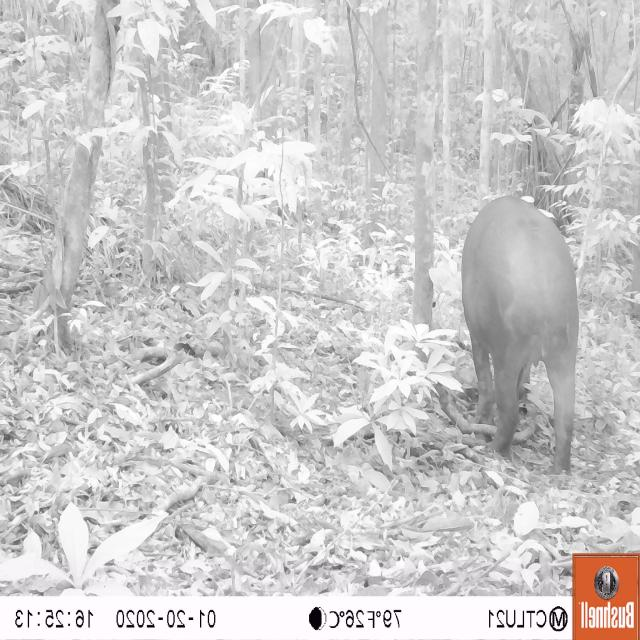Lowland Tapir: (455, 189, 586, 481)
